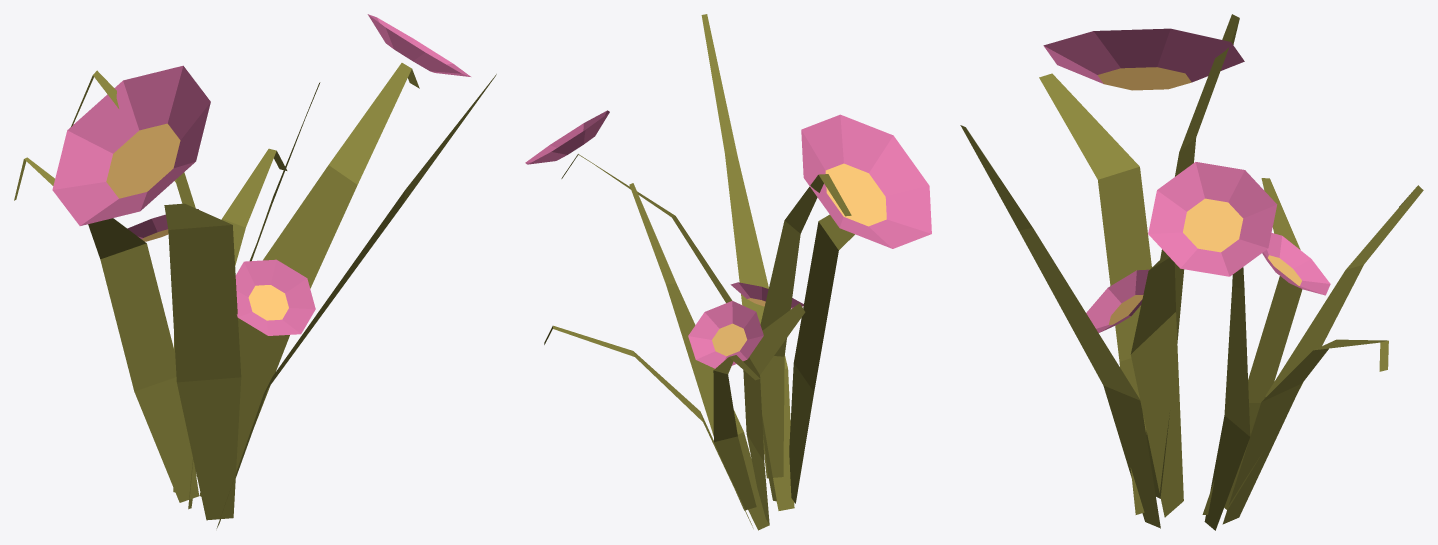
File: flowers.fbx
The picture shows the model from 3 angles, left to right: view 1: azimuth 30°, elevation 25°; view 2: azimuth 150°, elevation 25°; view 3: azimuth 270°, elevation 25°; orthographic projection. The views are drawn at different scales.
Visible parts, largest first — view 1: plant.001, Plane.002, Plane.003, Plane.001, Plane.000; view 2: plant.001, Plane.002, Plane.000, Plane.001, Plane.003; view 3: plant.001, Plane.001, Plane.002, Plane.003, Plane.000.
Part boxes in pixels (bbox=[...]): plant.001: bbox=[14, 63, 496, 528]; Plane.002: bbox=[52, 65, 210, 225]; Plane.003: bbox=[235, 259, 315, 335]; Plane.001: bbox=[367, 14, 470, 76]; Plane.000: bbox=[127, 209, 198, 241]; plant.001: bbox=[544, 14, 854, 530]; Plane.002: bbox=[801, 114, 931, 248]; Plane.000: bbox=[688, 301, 763, 368]; Plane.001: bbox=[525, 110, 609, 164]; Plane.003: bbox=[730, 282, 803, 308]; plant.001: bbox=[960, 14, 1423, 530]; Plane.001: bbox=[1148, 162, 1277, 276]; Plane.002: bbox=[1043, 28, 1244, 90]; Plane.003: bbox=[1086, 269, 1149, 332]; Plane.000: bbox=[1262, 233, 1330, 295].
Bounding box in the file's own units: 74.09 × 78.99 × 66.47.
